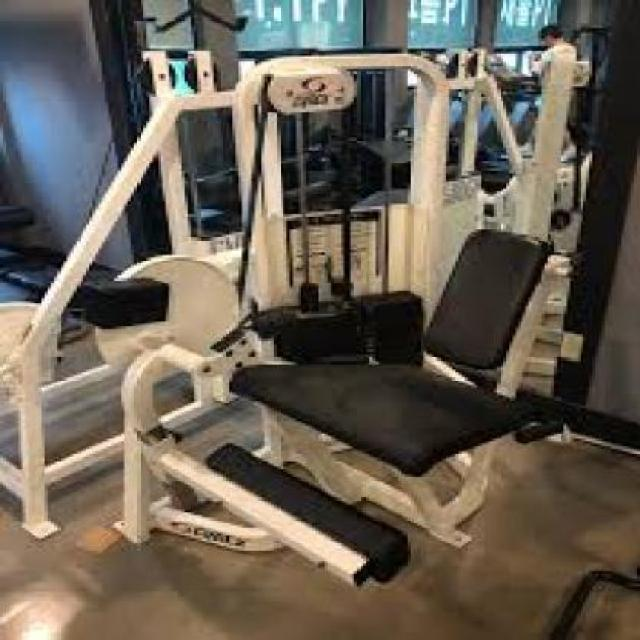leg extension: (69, 35, 637, 640)
